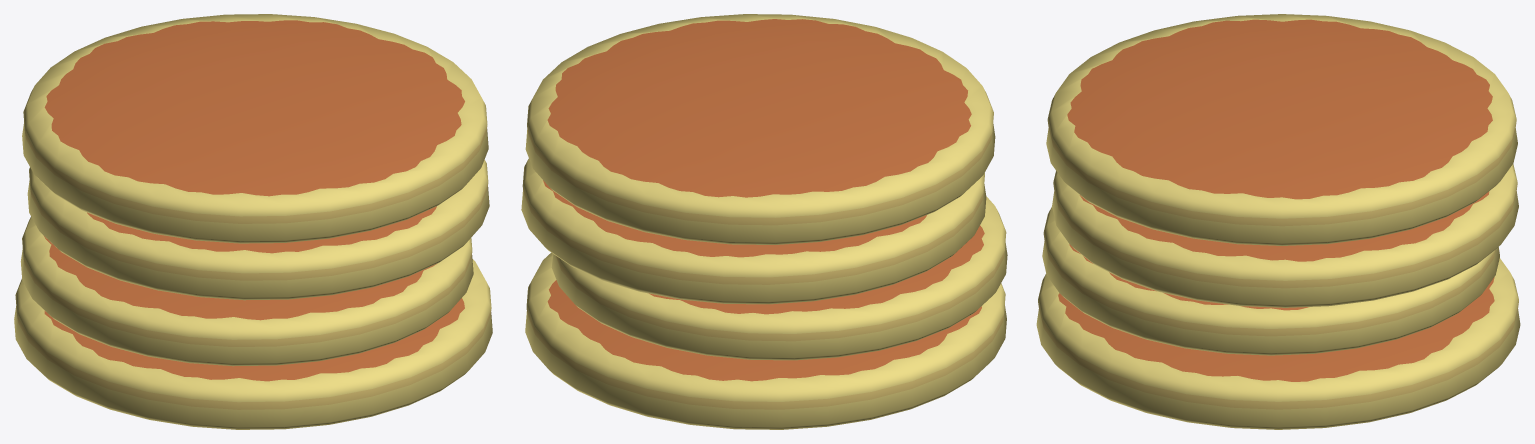
The model's file is PanCake_Cake.fbx.
The picture shows the model from 3 angles, left to right: view 1: azimuth 30°, elevation 25°; view 2: azimuth 150°, elevation 25°; view 3: azimuth 270°, elevation 25°; orthographic projection.
Visible parts, largest first — view 1: PanCake_top, PanCake_under, PanCake_middle_under, PanCake_midle_upper; view 2: PanCake_top, PanCake_under, PanCake_midle_upper, PanCake_middle_under; view 3: PanCake_top, PanCake_under, PanCake_midle_upper, PanCake_middle_under.
Part boxes in pixels (x1,y1,x2,y2): PanCake_top: (22, 14, 488, 243); PanCake_under: (14, 259, 492, 429); PanCake_middle_under: (20, 216, 473, 366); PanCake_midle_upper: (27, 159, 489, 300); PanCake_top: (525, 14, 995, 244); PanCake_under: (525, 252, 1006, 429); PanCake_midle_upper: (521, 158, 986, 304); PanCake_middle_under: (551, 196, 1007, 360); PanCake_top: (1046, 14, 1517, 245); PanCake_under: (1036, 258, 1520, 429); PanCake_midle_upper: (1052, 164, 1518, 307); PanCake_middle_under: (1042, 207, 1499, 355).
Bounding box in the file's own units: 0.9782 × 0.5332 × 0.975.
